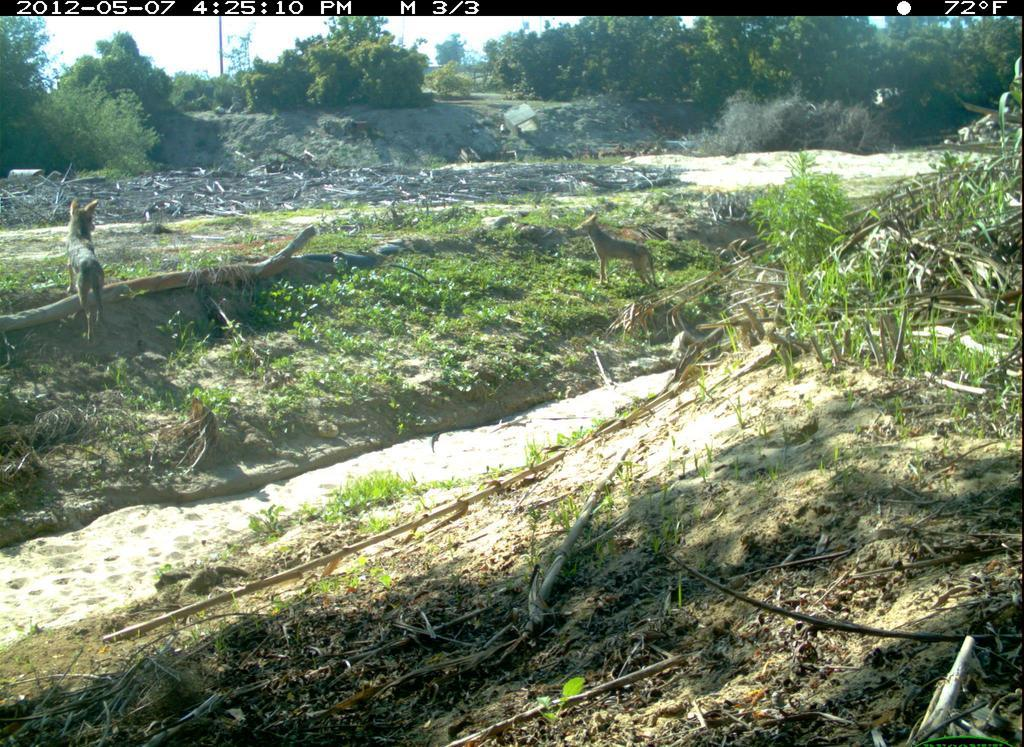coyote: (566, 205, 672, 311), (54, 190, 123, 338)
